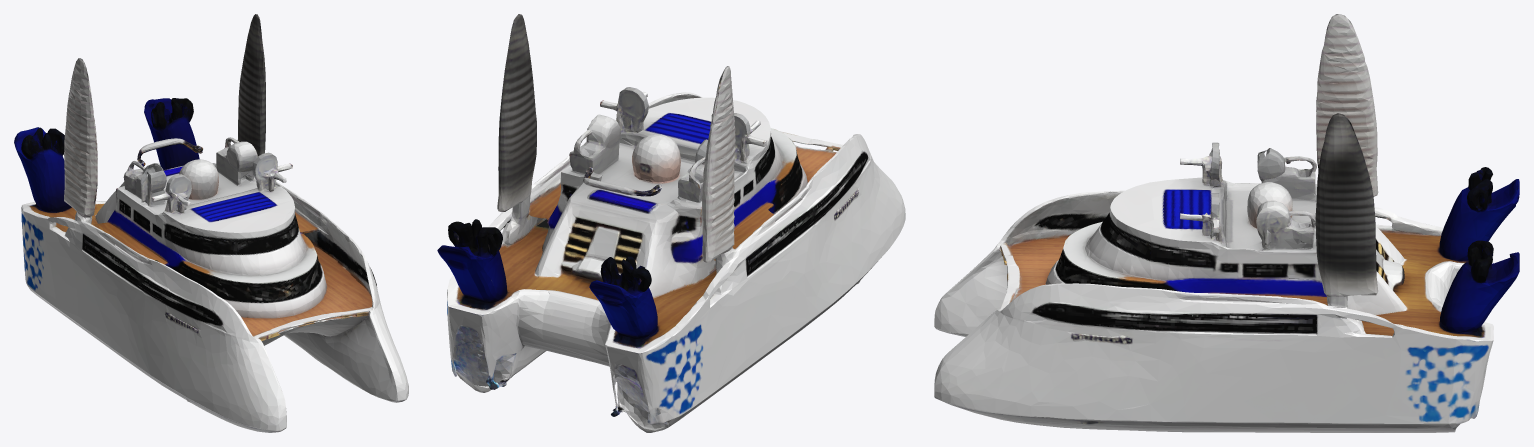
3 views of the same model, side by side, from view 1: azimuth 30°, elevation 25°; view 2: azimuth 150°, elevation 25°; view 3: azimuth 270°, elevation 25° (orthographic). The views are drawn at different scales.
Visible parts, largest first — view 1: world; view 2: world; view 3: world.
Boxes of the visible parts, left/top/right/bottom form: world: left=14, top=14, right=408, bottom=432; world: left=437, top=14, right=905, bottom=432; world: left=934, top=14, right=1519, bottom=432.
Size of the model in its own units: 0.3185 by 0.4341 by 0.7006.
Materials: 1 (1 with a texture image).
